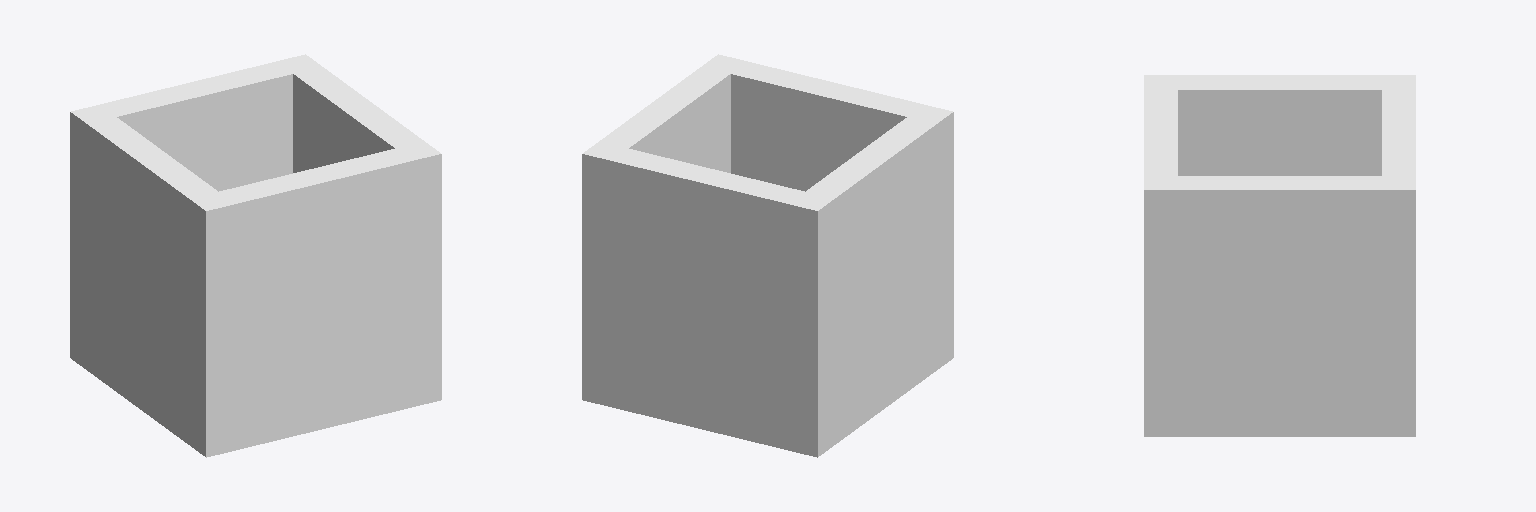
File: carcel.obj
3 renders of one model, left to right at view 1: azimuth 30°, elevation 25°; view 2: azimuth 150°, elevation 25°; view 3: azimuth 270°, elevation 25°, orthographic.
Visible parts, largest first — view 1: object 1; view 2: object 1; view 3: object 1.
Boxes of the visible parts, <box> form: object 1: <box>70,54,441,457</box>; object 1: <box>582,54,953,457</box>; object 1: <box>1144,75,1415,436</box>.
Bounding box in the file's own units: 1.6 × 1.6 × 1.6.